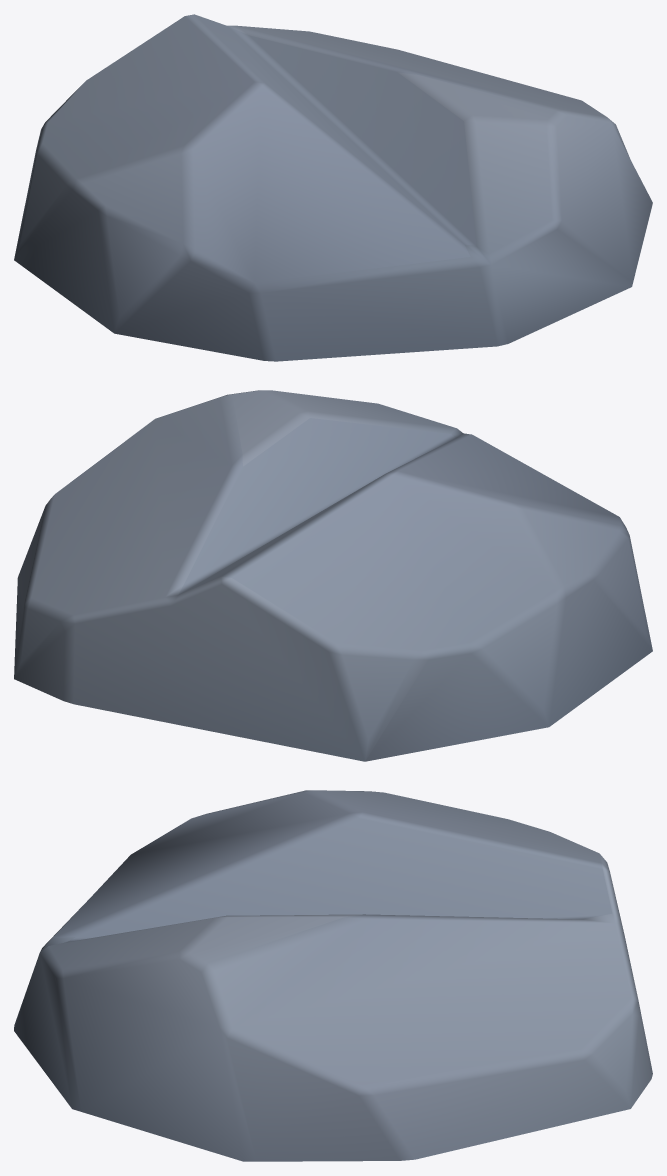
Rendered from Stone_lvl_02.fbx.
3 views of the same model, one above another, from view 1: azimuth 30°, elevation 25°; view 2: azimuth 150°, elevation 25°; view 3: azimuth 270°, elevation 25° (orthographic). The views are drawn at different scales.
Visible parts, largest first — view 1: Stone_lvl_02; view 2: Stone_lvl_02; view 3: Stone_lvl_02.
Part boxes in pixels (bbox=[...]): Stone_lvl_02: bbox=[14, 14, 652, 361]; Stone_lvl_02: bbox=[14, 390, 652, 761]; Stone_lvl_02: bbox=[14, 790, 652, 1161].
Bounding box in the file's own units: 0.6798 × 0.197 × 0.6601.
